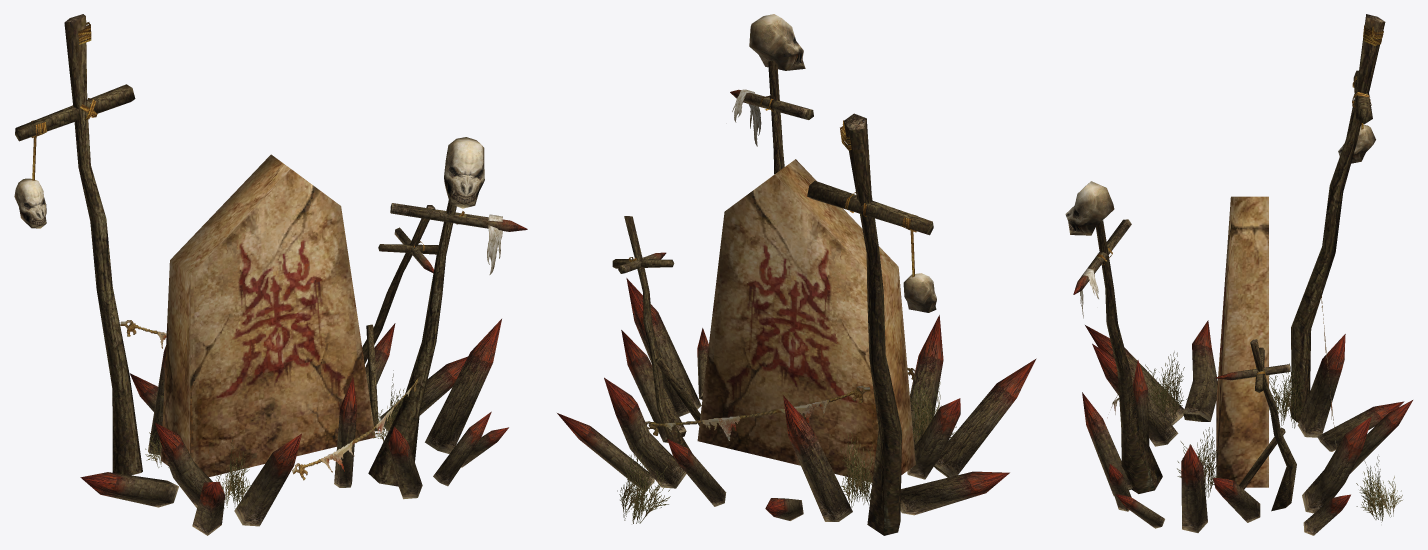
File: w_cd_ravi_gorge03_01.glb
The picture shows the model from 3 angles, left to right: view 1: azimuth 30°, elevation 25°; view 2: azimuth 150°, elevation 25°; view 3: azimuth 270°, elevation 25°; orthographic projection. The views are drawn at different scales.
Visible parts, largest first — view 1: W_CD_ravi_gorge03_03, W_CD_ravi_gorge03_01, W_CD_ravi_gorge03_04, W_CD_ravi_gorge03_05; view 2: W_CD_ravi_gorge03_03, W_CD_ravi_gorge03_01, W_CD_ravi_gorge03_05, W_CD_ravi_gorge03_04, W_CD_ravi_gorge03_02; view 3: W_CD_ravi_gorge03_01, W_CD_ravi_gorge03_03, W_CD_ravi_gorge03_05, W_CD_ravi_gorge03_04.
Boxes of the visible parts, box(x1,y1,x2,y2) form: W_CD_ravi_gorge03_03: box(161, 154, 375, 476); W_CD_ravi_gorge03_01: box(14, 14, 527, 535); W_CD_ravi_gorge03_04: box(31, 22, 464, 480); W_CD_ravi_gorge03_05: box(145, 370, 404, 510); W_CD_ravi_gorge03_03: box(697, 159, 915, 482); W_CD_ravi_gorge03_01: box(557, 14, 1036, 535); W_CD_ravi_gorge03_05: box(617, 356, 957, 523); W_CD_ravi_gorge03_04: box(628, 95, 916, 440); W_CD_ravi_gorge03_02: box(732, 89, 761, 146); W_CD_ravi_gorge03_01: box(1065, 14, 1412, 535); W_CD_ravi_gorge03_03: box(1216, 196, 1268, 487); W_CD_ravi_gorge03_05: box(1145, 351, 1402, 522); W_CD_ravi_gorge03_04: box(1097, 24, 1383, 447).
Size of the model in its own units: 7.71 by 8.35 by 6.35.
5 materials, 5 textured.
